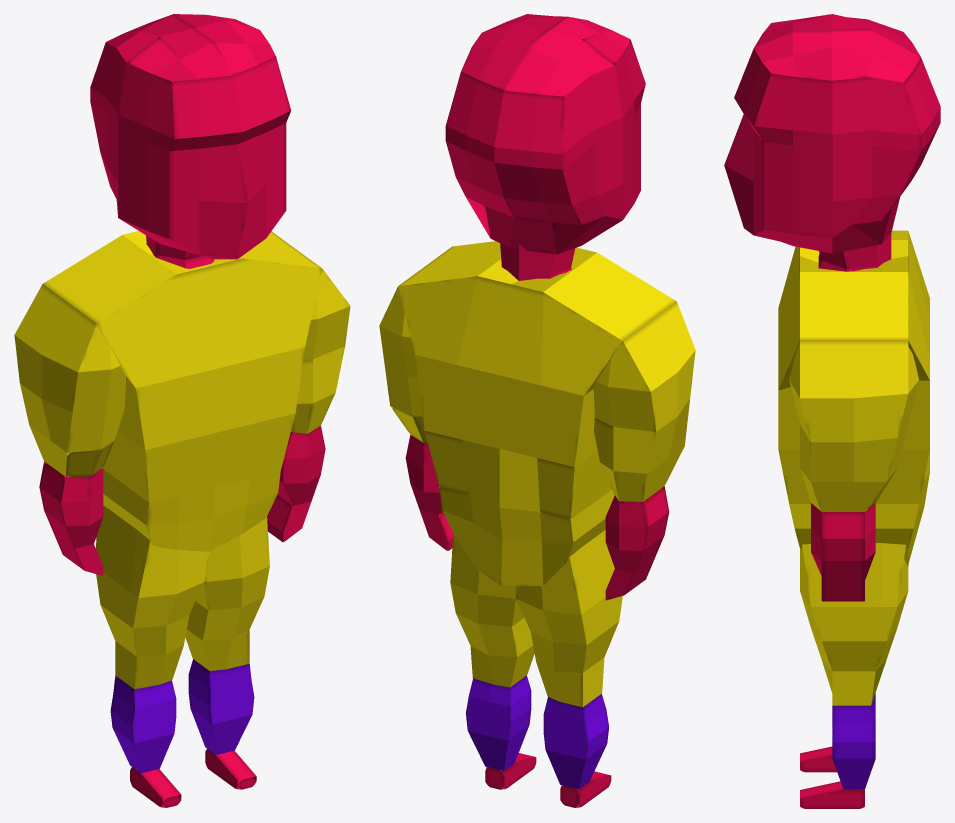
File: 3D Template.obj
3 renders of one model, left to right at view 1: azimuth 30°, elevation 25°; view 2: azimuth 150°, elevation 25°; view 3: azimuth 270°, elevation 25°, orthographic.
Visible parts, largest first — view 1: cuboid, cylinder; view 2: cuboid, cylinder; view 3: cuboid, cylinder.
Part boxes in pixels (<box>): cuboid: <box>14,14,350,807</box>; cylinder: <box>146,235,214,268</box>; cuboid: <box>379,14,695,807</box>; cylinder: <box>500,243,575,280</box>; cuboid: <box>724,14,940,808</box>; cylinder: <box>818,233,891,271</box>.
Bounding box in the file's own units: 1.88 × 4.81 × 1.25.
